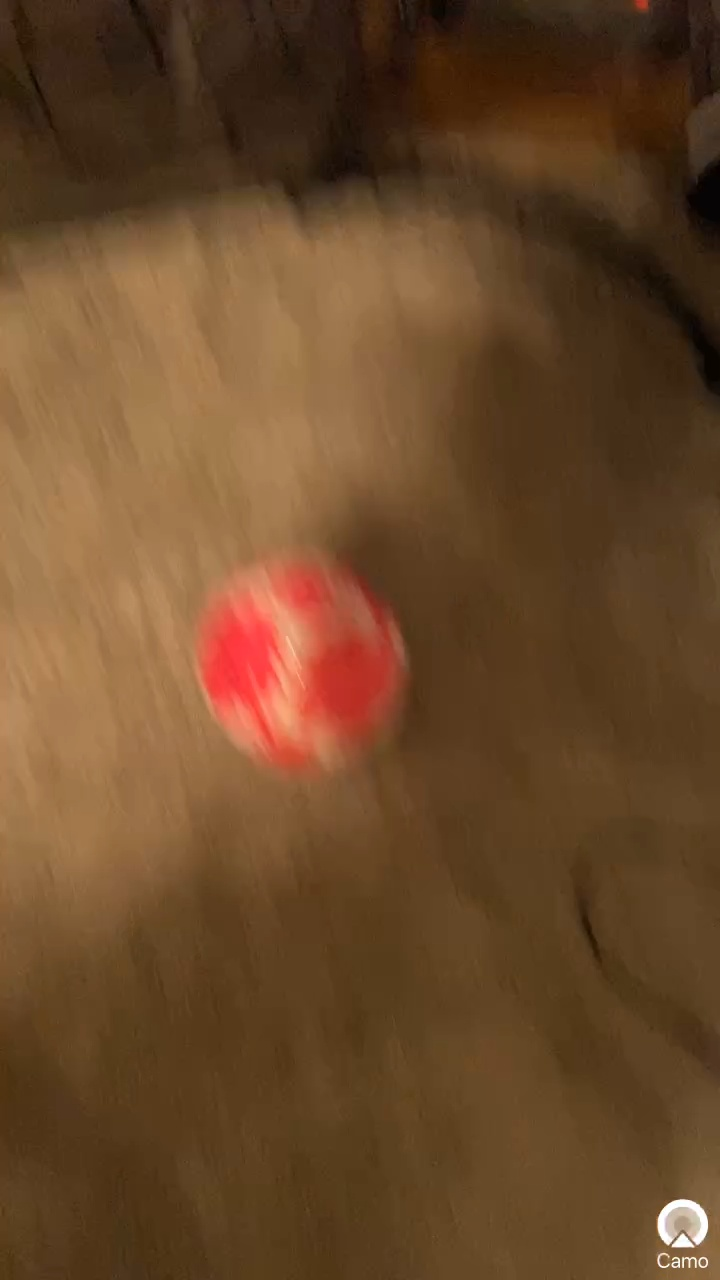Soccer_Ball: (181, 537, 448, 818)
